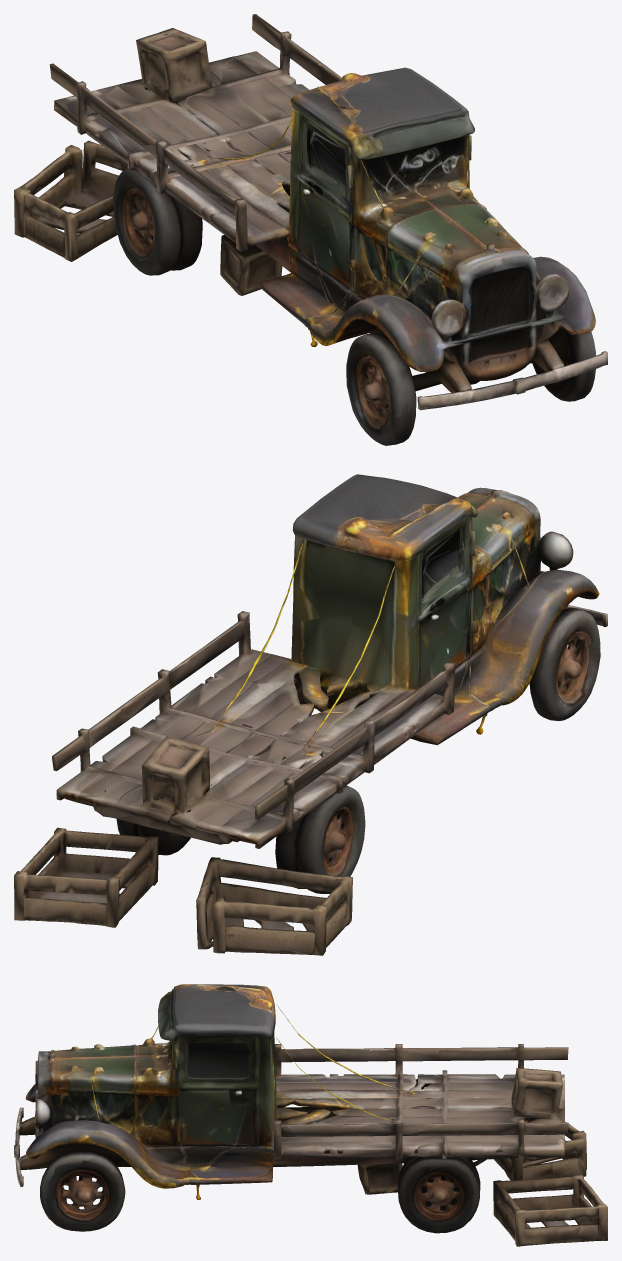
File: wreck-delivery-truck-hive.glb
The picture shows the model from 3 angles, top to bottom: view 1: azimuth 30°, elevation 25°; view 2: azimuth 150°, elevation 25°; view 3: azimuth 270°, elevation 25°; orthographic projection. The views are drawn at different scales.
Parts seen in each view (by area): view 1: model; view 2: model; view 3: model.
Part boxes in pixels (<box>): model: <box>14,14,607,445</box>; model: <box>14,474,607,955</box>; model: <box>14,984,607,1246</box>.
Size of the model in its own units: 2.11 by 1.84 by 5.
Materials: 1 (1 with a texture image).
